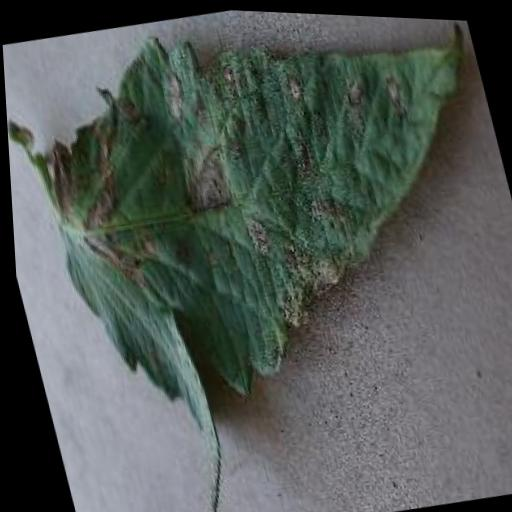Early Blight: (0, 0, 512, 439)
